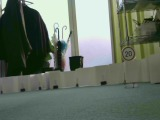speed_20: (121, 46, 136, 61)
